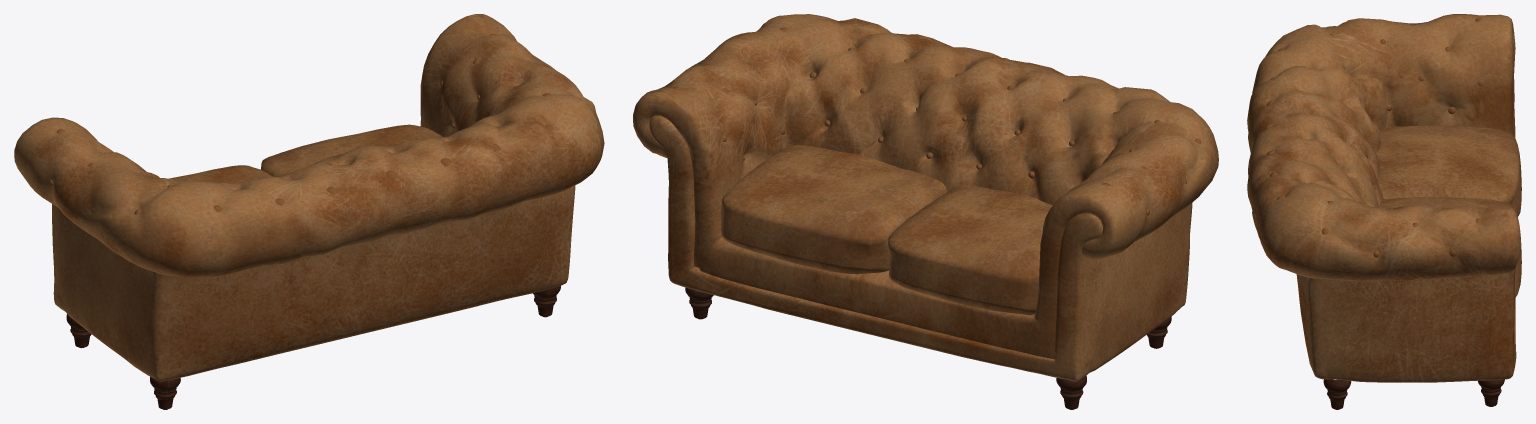
Rendered from abo_B071J7Q3JM.glb.
3 views of the same model, side by side, from view 1: azimuth 30°, elevation 25°; view 2: azimuth 150°, elevation 25°; view 3: azimuth 270°, elevation 25° (orthographic). The views are drawn at different scales.
Parts seen in each view (by area): view 1: RootNode; view 2: RootNode; view 3: RootNode.
Boxes of the visible parts, x1,y1,x2,y2 form: RootNode: [14, 14, 604, 409]; RootNode: [633, 14, 1218, 409]; RootNode: [1247, 14, 1521, 409].
Bounding box in the file's own units: 1.98 × 0.877 × 1.04.
Materials: 1 (1 with a texture image).
